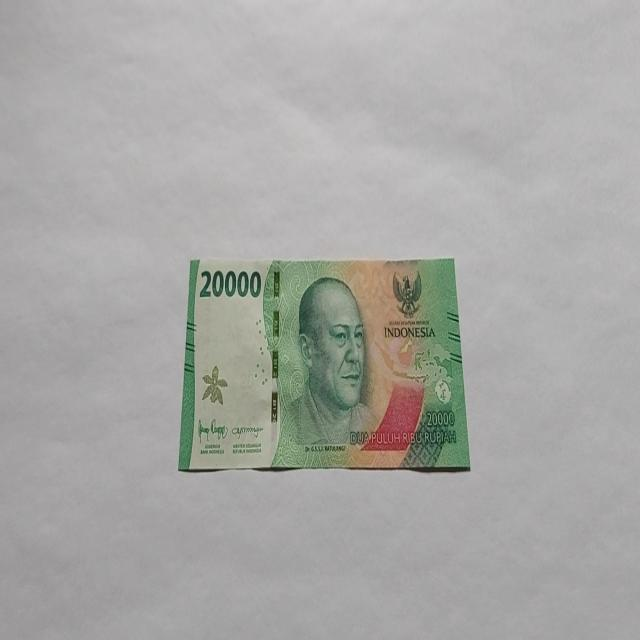dua puluh ribu rupiah: (177, 255, 471, 473)
